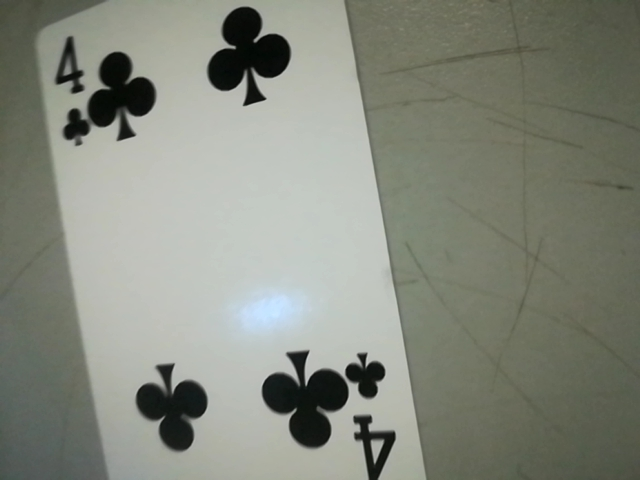mh 4: (339, 340, 410, 480), (43, 31, 99, 154)
